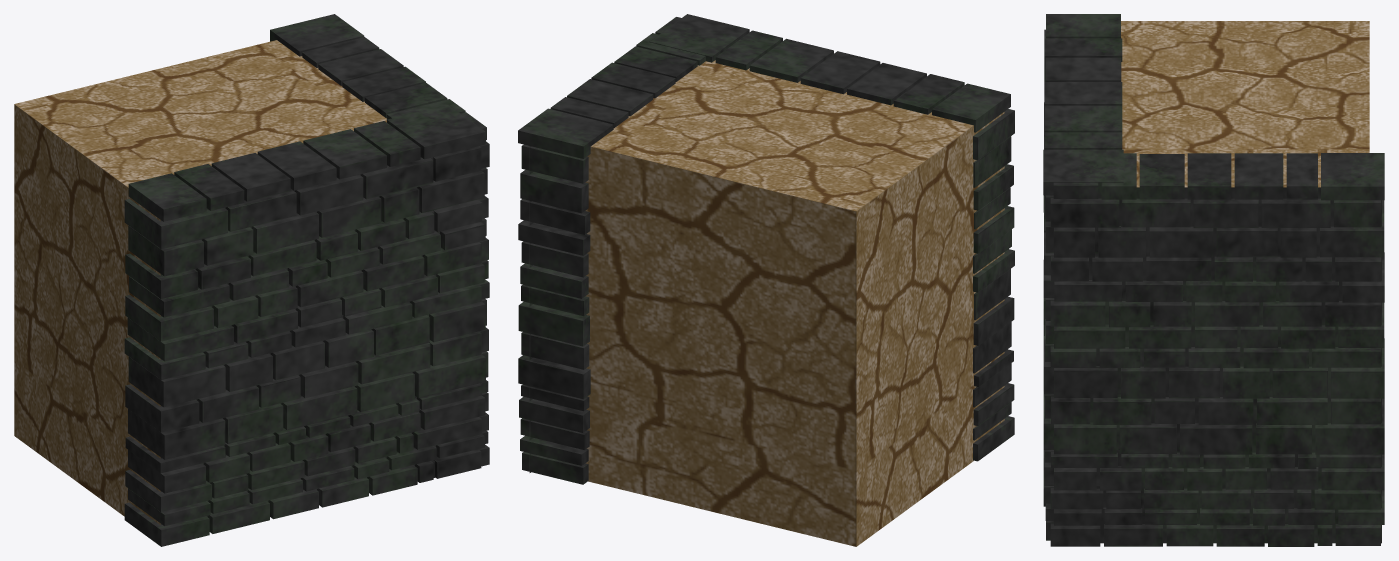
Rendered from Stone Corner.fbx.
3 renders of one model, left to right at view 1: azimuth 30°, elevation 25°; view 2: azimuth 150°, elevation 25°; view 3: azimuth 270°, elevation 25°, orthographic. The views are drawn at different scales.
Visible parts, largest first — view 1: Brick wall moss.001; view 2: Brick wall moss.001; view 3: Brick wall moss.001.
Part boxes in pixels (x1,y1,x2,y2): Brick wall moss.001: (14,14,489,546); Brick wall moss.001: (518,14,1014,546); Brick wall moss.001: (1043,14,1384,546).
Size of the model in its own units: 105 by 102 by 87.
